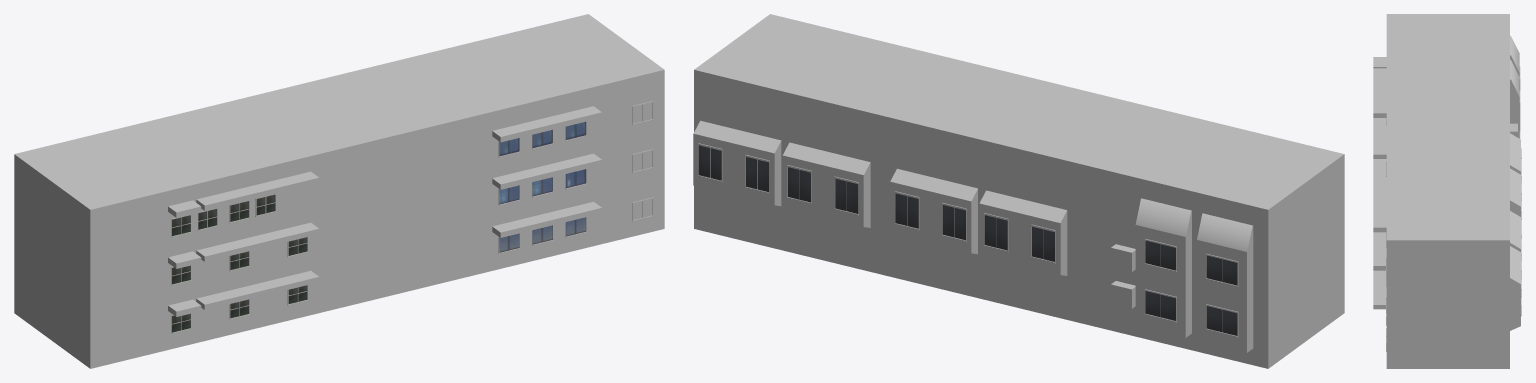
File: bldg_mall_10_b01.fbx
3 views of the same model, side by side, from view 1: azimuth 30°, elevation 25°; view 2: azimuth 150°, elevation 25°; view 3: azimuth 270°, elevation 25° (orthographic). The views are drawn at different scales.
Visible parts, largest first — view 1: bldg_mall_10_b01; view 2: bldg_mall_10_b01; view 3: bldg_mall_10_b01.
Part boxes in pixels (<box>): bldg_mall_10_b01: <box>14,14,664,368</box>; bldg_mall_10_b01: <box>693,14,1344,368</box>; bldg_mall_10_b01: <box>1373,14,1521,368</box>.
Size of the model in its own units: 36.4 by 9.64 by 10.08.
